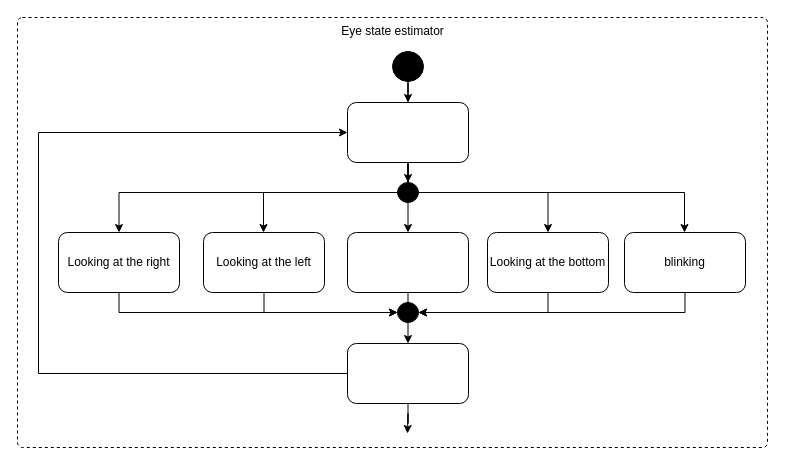
Image size: 785x465. Some labels were removed from this diagram. Each missing label, with the centre of its shape:
"Awaiting update" goes at [407,132].
"Debouncing" goes at [407,373].
"Looking at the top" goes at [407,262].
